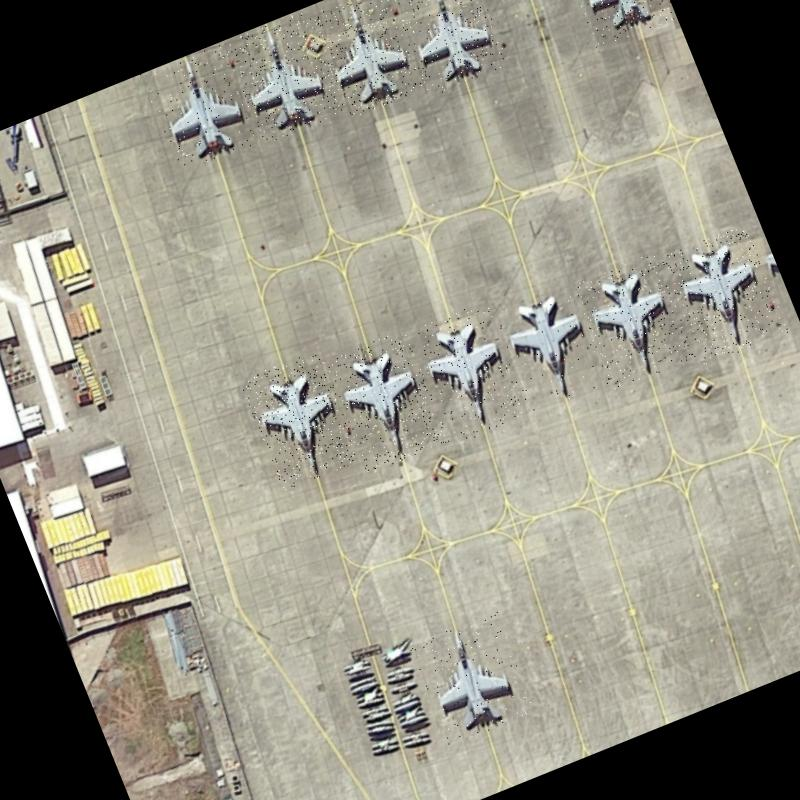A16: (322, 328, 450, 474), (660, 222, 788, 366), (408, 608, 537, 746), (238, 349, 362, 492), (410, 300, 532, 445), (570, 251, 696, 391), (488, 276, 612, 416), (222, 10, 344, 145), (140, 41, 260, 174), (305, 0, 424, 119), (388, 0, 510, 97), (552, 0, 676, 50)
